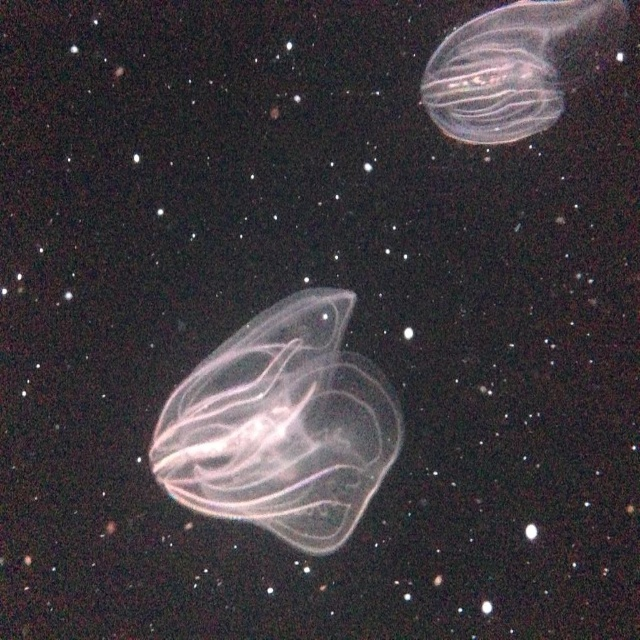Jellyfish: (136, 286, 413, 562), (420, 0, 629, 146)
